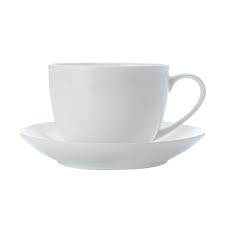cup: (48, 61, 208, 148)
